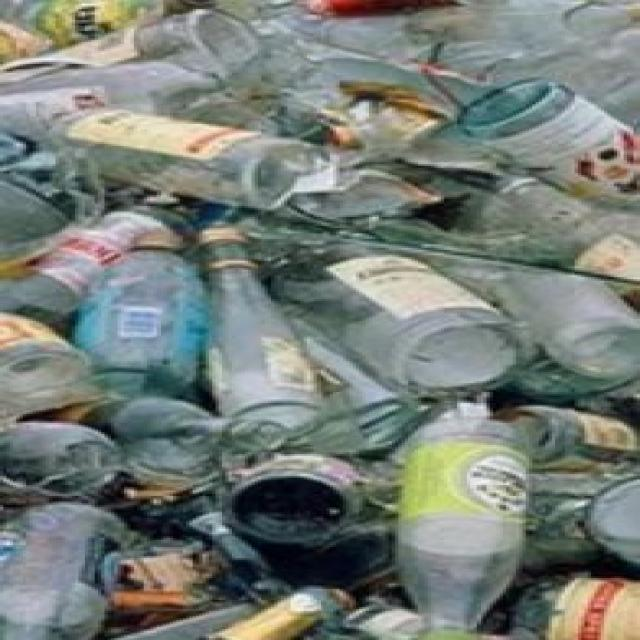electronic: (378, 415, 544, 640), (190, 223, 330, 447), (50, 110, 328, 216), (453, 76, 640, 218), (77, 225, 210, 402), (223, 447, 368, 552)
